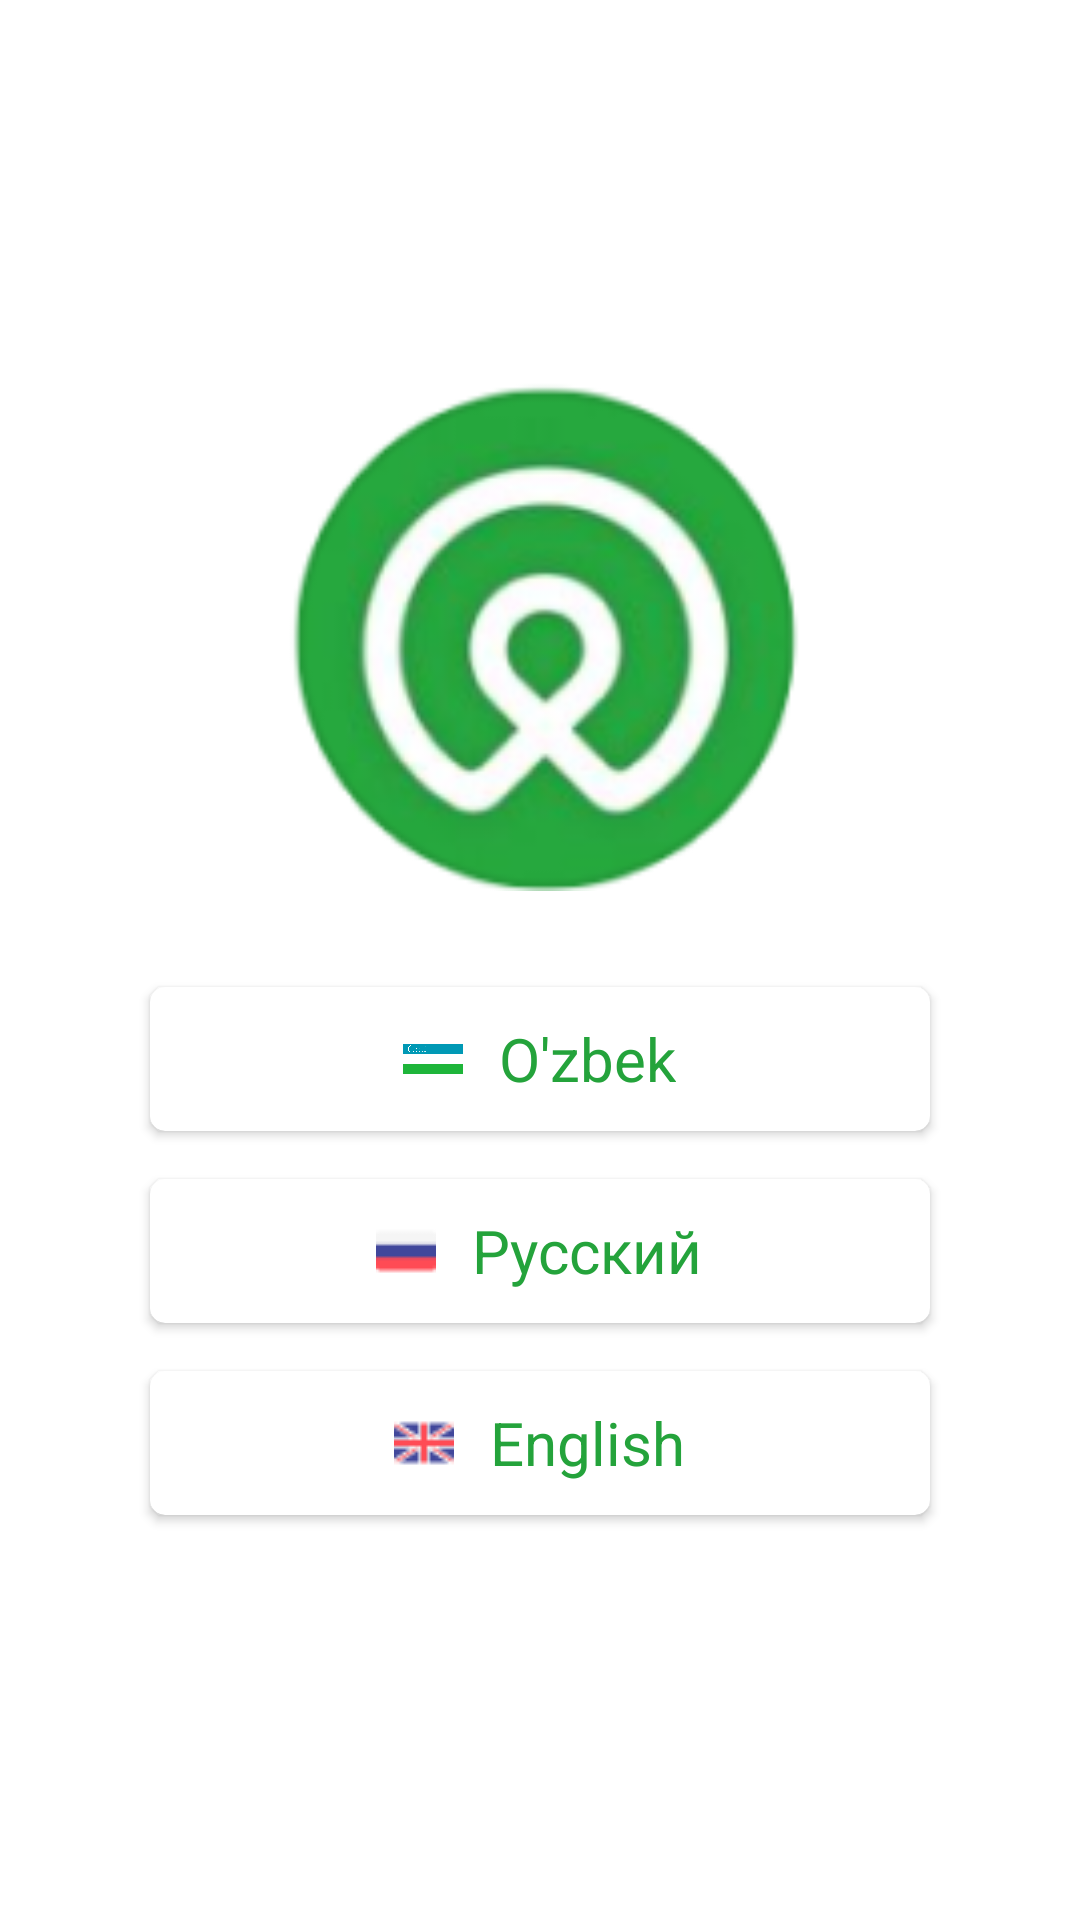

Point at icon controls on the screen. Image size 1080w x 1920h, points as [x,y].
russia: [406,1257]
united kingdom: [424,1443]
uzbekiya: [433,1059]
